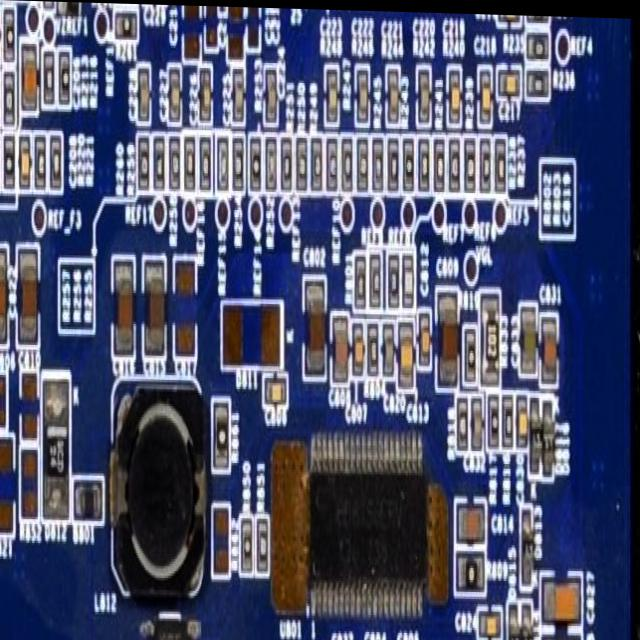IC: (303, 425, 433, 628)
capacitor: (302, 275, 327, 378), (143, 256, 166, 356), (113, 256, 136, 355), (542, 569, 584, 618), (454, 498, 487, 543), (540, 309, 560, 383), (520, 301, 538, 381), (331, 308, 350, 382), (397, 312, 415, 389), (19, 36, 36, 113), (166, 59, 184, 129), (136, 58, 154, 128), (197, 62, 215, 128), (356, 63, 372, 129), (386, 64, 403, 125), (476, 606, 503, 640), (418, 62, 432, 127), (262, 374, 288, 409), (497, 62, 522, 98), (479, 66, 494, 126), (326, 63, 341, 123), (448, 65, 462, 128), (266, 66, 280, 128), (382, 317, 396, 378), (231, 65, 245, 125), (418, 308, 432, 367), (351, 316, 365, 375), (472, 393, 485, 453), (19, 132, 31, 190), (516, 389, 528, 447), (542, 626, 584, 640), (498, 12, 524, 24), (141, 3, 168, 6), (0, 5, 1, 62)
resistor: (481, 286, 499, 383), (455, 546, 487, 592), (213, 397, 231, 472), (112, 3, 140, 44), (524, 62, 552, 98), (492, 133, 509, 192), (462, 130, 478, 192), (479, 128, 493, 198), (525, 26, 551, 63), (447, 132, 463, 192), (2, 131, 18, 191), (48, 135, 64, 195), (231, 130, 246, 193), (386, 130, 401, 191), (2, 69, 17, 129), (432, 132, 447, 192), (386, 248, 401, 308), (370, 133, 385, 191), (341, 132, 356, 190), (33, 135, 48, 193), (353, 252, 368, 310), (456, 393, 471, 451), (2, 3, 16, 65), (43, 46, 57, 106), (486, 391, 501, 447), (256, 515, 269, 579), (326, 134, 340, 193), (357, 133, 371, 191), (296, 134, 310, 191), (463, 324, 477, 381), (369, 250, 384, 303), (153, 130, 166, 191), (137, 132, 150, 192), (169, 133, 182, 193), (403, 131, 417, 186), (418, 134, 432, 189), (280, 133, 293, 192), (310, 136, 323, 195), (200, 131, 213, 189), (250, 132, 262, 193), (502, 389, 514, 450), (240, 512, 252, 573), (183, 136, 196, 191), (59, 47, 71, 106), (368, 319, 380, 377), (524, 12, 551, 27), (0, 67, 1, 129), (44, 1, 56, 6), (112, 3, 139, 5), (0, 134, 1, 186)
transistor: (137, 609, 208, 640)
